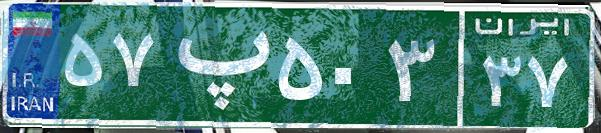0: (330, 28, 385, 110)
3: (385, 28, 445, 110), (475, 38, 525, 113)
5: (273, 28, 330, 110), (57, 26, 110, 107)
7: (110, 28, 158, 105), (525, 38, 570, 115)
پ: (158, 15, 273, 115)
